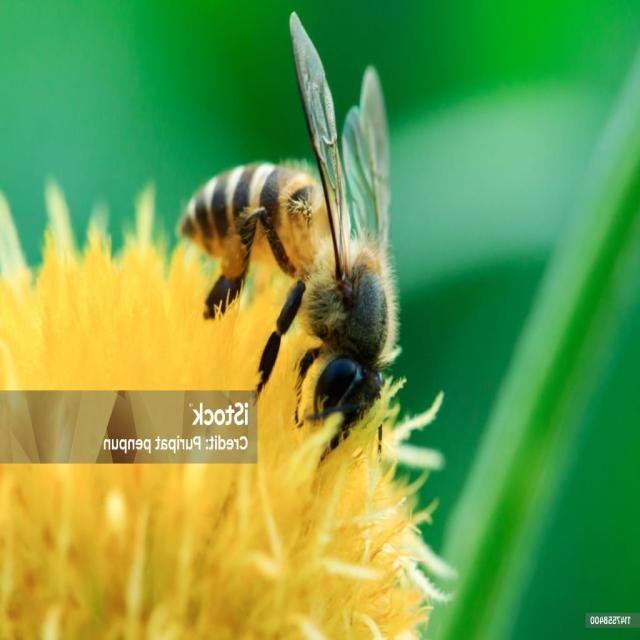bees: (175, 6, 402, 487)
